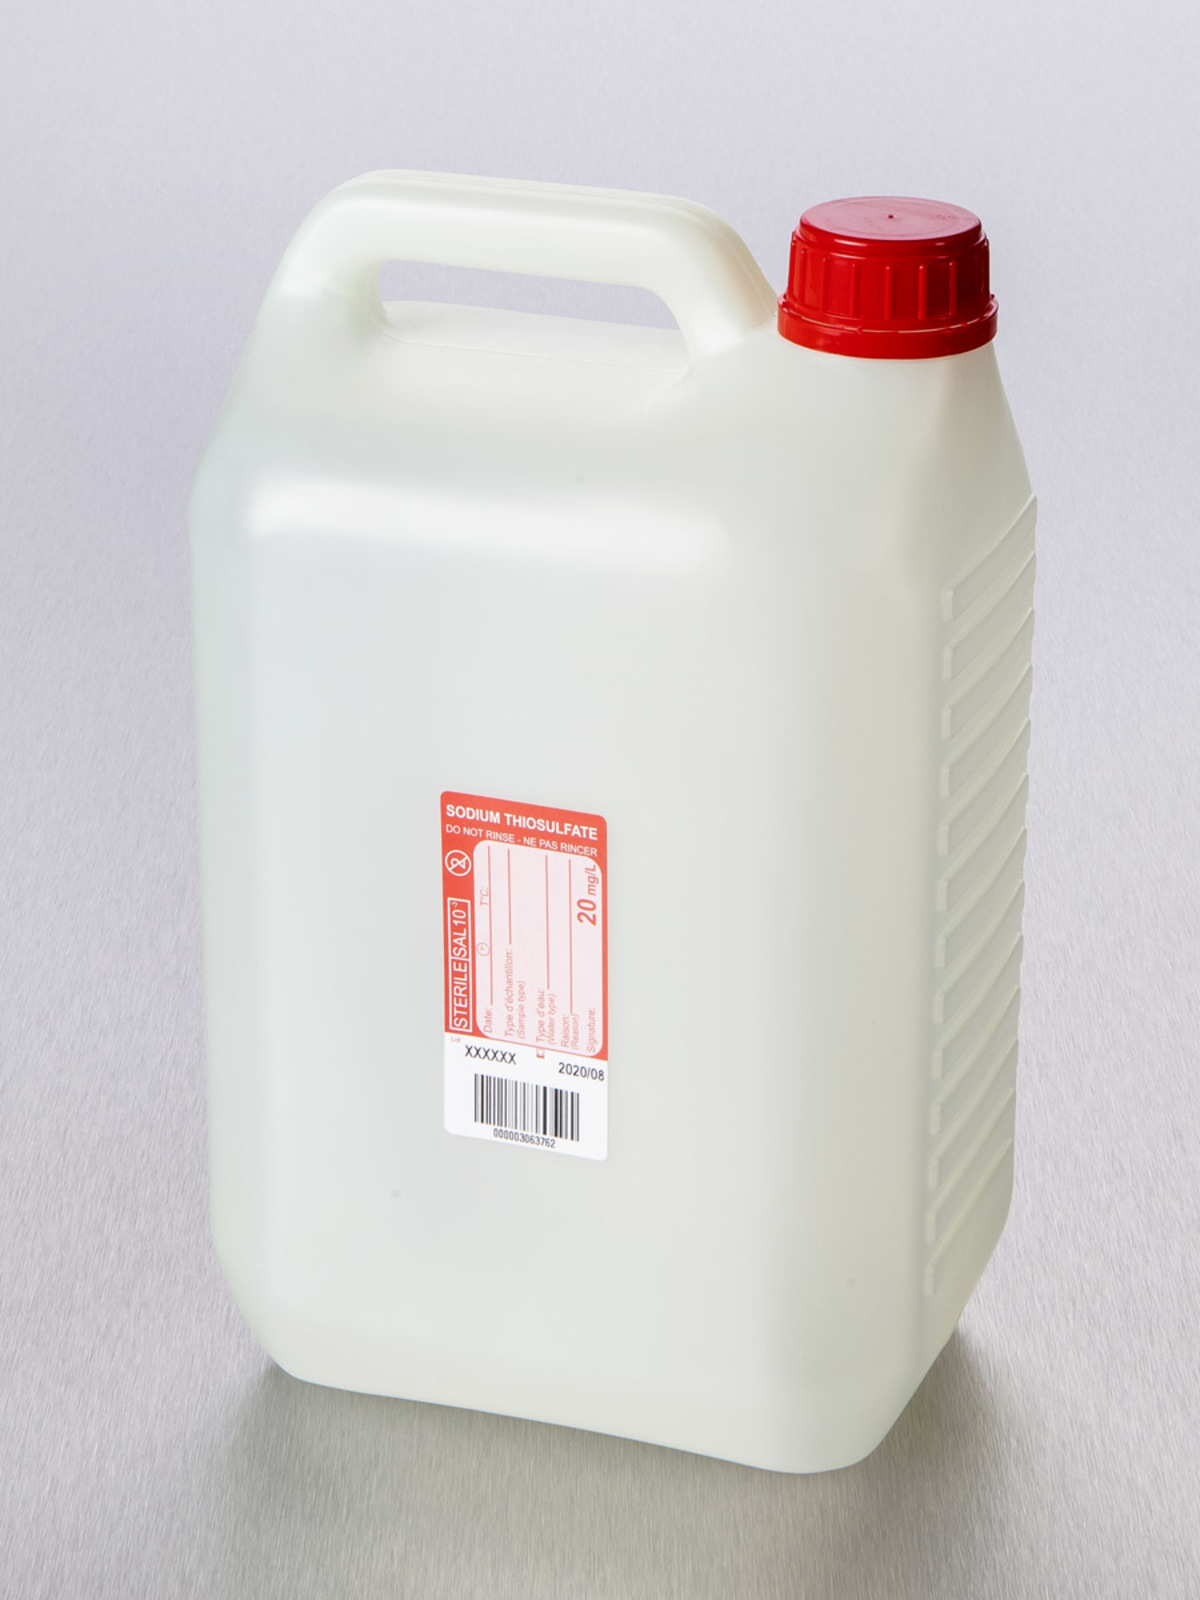plastic: (183, 157, 1042, 1480)
